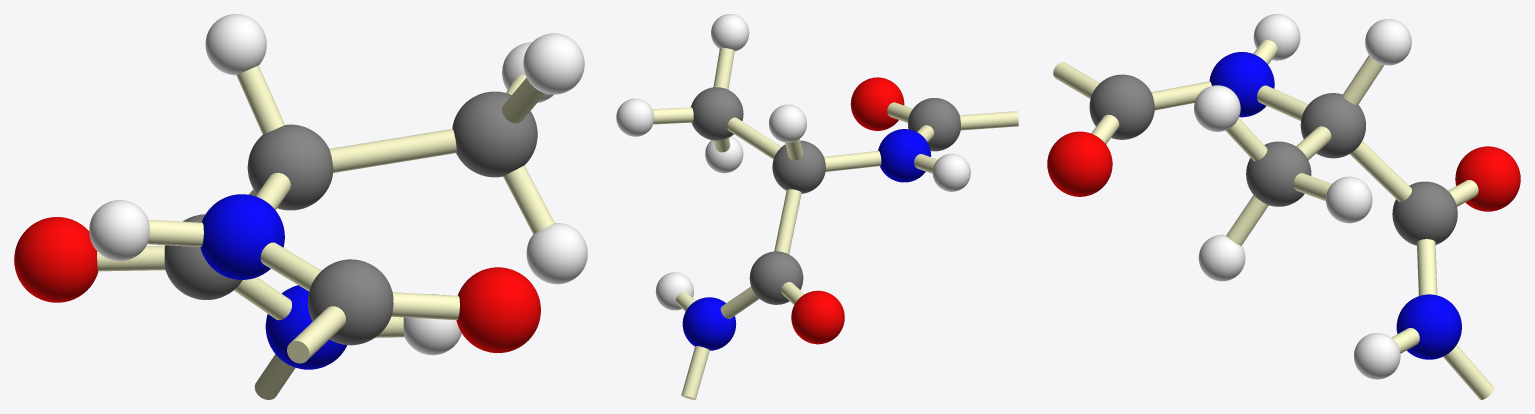
Rendered from conformation.gltf.
The picture shows the model from 3 angles, left to right: view 1: azimuth 30°, elevation 25°; view 2: azimuth 150°, elevation 25°; view 3: azimuth 270°, elevation 25°; orthographic projection. The views are drawn at different scales.
Parts seen in each view (by area): view 1: ?????????2, ?????????6, ?????????3, ?????????9, ?????????1, ?????????4, ?????????22, ?????????10, ?????????7, ?????????8, ?????????12, ?????????5 (+14 smaller); view 2: ?????????6, ?????????13, ?????????9, ?????????2, ?????????5, ?????????3, ?????????4, ?????????1, ?????????7, ?????????8, ?????????11, ?????????10 (+11 smaller); view 3: ?????????2, ?????????5, ?????????6, ?????????13, ?????????1, ?????????9, ?????????4, ?????????3, ?????????10, ?????????11, ?????????14, ?????????8 (+16 smaller).
Part boxes in pixels (x1,y1,x2,y2): ?????????2: (456,267,540,352); ?????????6: (14,217,98,302); ?????????3: (200,194,284,279); ?????????9: (452,91,537,177); ?????????1: (308,259,393,345); ?????????4: (247,124,333,210); ?????????22: (329,129,456,172); ?????????10: (523,33,584,94); ?????????7: (89,200,149,261); ?????????8: (205,14,266,75); ?????????12: (526,223,587,284); ?????????5: (164,214,242,299); ?????????6: (791,290,844,344); ?????????13: (682,297,736,350); ?????????9: (691,87,743,140); ?????????2: (850,77,904,130); ?????????5: (749,251,803,304); ?????????3: (878,129,931,182); ?????????4: (772,140,825,193); ?????????1: (908,98,960,151); ?????????7: (932,153,970,191); ?????????8: (769,104,806,142); ?????????11: (616,98,654,136); ?????????10: (711,14,749,51); ?????????2: (1047,131,1112,196); ?????????5: (1392,181,1457,245); ?????????6: (1455,146,1520,211); ?????????13: (1396,294,1461,359); ?????????1: (1089,74,1154,139); ?????????9: (1246,141,1311,206); ?????????4: (1300,93,1365,158); ?????????3: (1209,52,1274,117); ?????????10: (1194,85,1240,131); ?????????11: (1326,176,1372,223); ?????????14: (1354,333,1400,379); ?????????8: (1365,19,1411,65).
Bounding box in the file's own units: 48.29 × 41.59 × 50.7.
